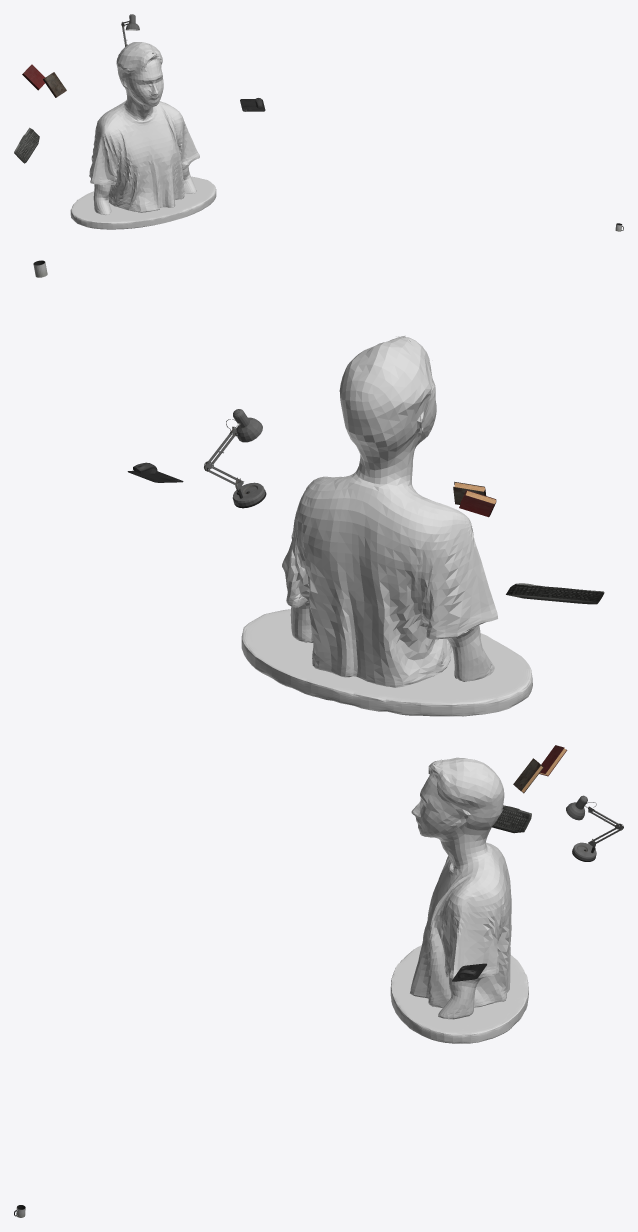
File: example.glb
The picture shows the model from 3 angles, top to bottom: view 1: azimuth 30°, elevation 25°; view 2: azimuth 150°, elevation 25°; view 3: azimuth 270°, elevation 25°; orthographic projection. The views are drawn at different scales.
Parts seen in each view (by area): view 1: geometry_0, Keyboard_Keyboard_0, Book01_Book01_0, Book02_Book02_0; view 2: geometry_0, DeskLamp_DeskLamp_0, Keyboard_Keyboard_0, Book02_Book02_0; view 3: geometry_0, DeskLamp_DeskLamp_0, Keyboard_Keyboard_0.
Boxes of the visible parts, x1,y1,x2,y2 form: geometry_0: [70, 42, 216, 229]; Keyboard_Keyboard_0: [14, 127, 39, 163]; Book01_Book01_0: [43, 72, 66, 97]; Book02_Book02_0: [22, 64, 44, 90]; geometry_0: [241, 335, 532, 716]; DeskLamp_DeskLamp_0: [204, 409, 266, 508]; Keyboard_Keyboard_0: [506, 583, 604, 604]; Book02_Book02_0: [459, 490, 496, 517]; geometry_0: [390, 757, 528, 1043]; DeskLamp_DeskLamp_0: [566, 795, 623, 861]; Keyboard_Keyboard_0: [492, 805, 531, 833].
Bounding box in the file's own units: 0.9998 × 0.3553 × 0.814.
9 materials, 6 textured.
